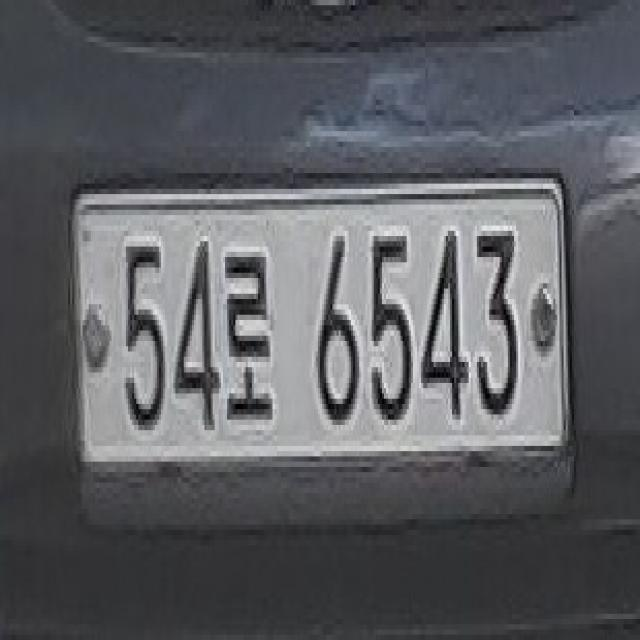3: (473, 189, 528, 456)
4: (421, 220, 477, 436), (167, 226, 217, 420)
5: (118, 199, 169, 451), (365, 194, 413, 451)
6: (314, 194, 359, 436)
license_plate: (66, 157, 578, 530)
lo: (219, 225, 279, 436)
